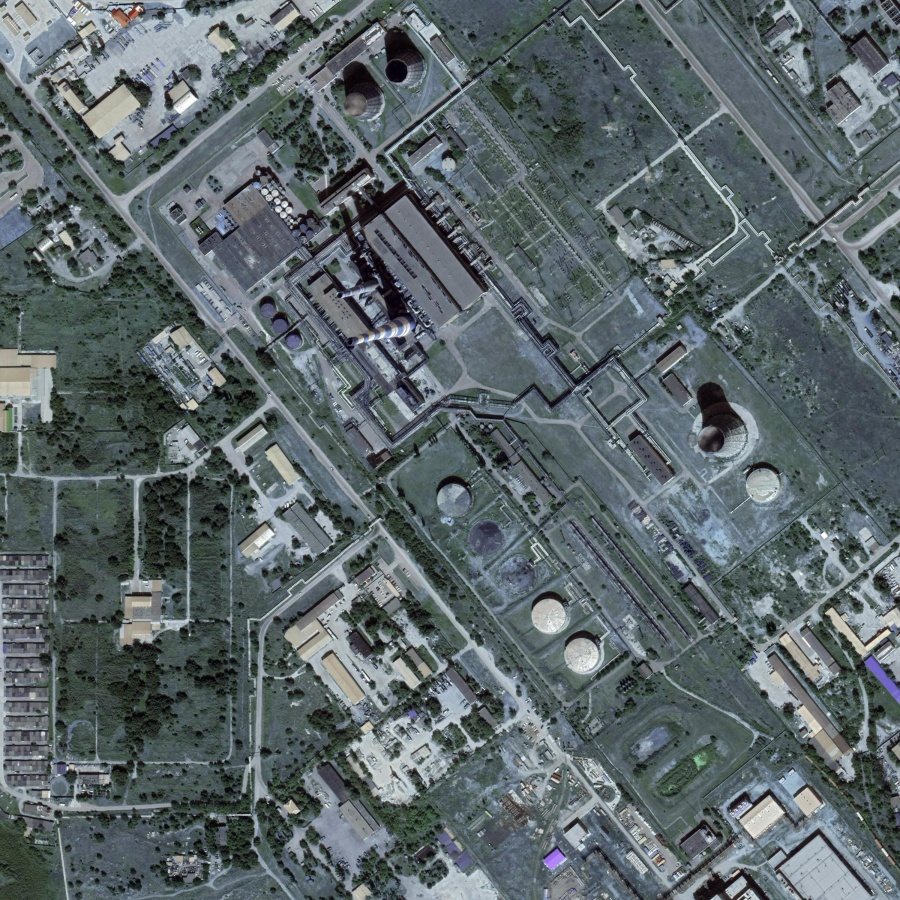PowerPlant: (314, 34, 789, 685)
